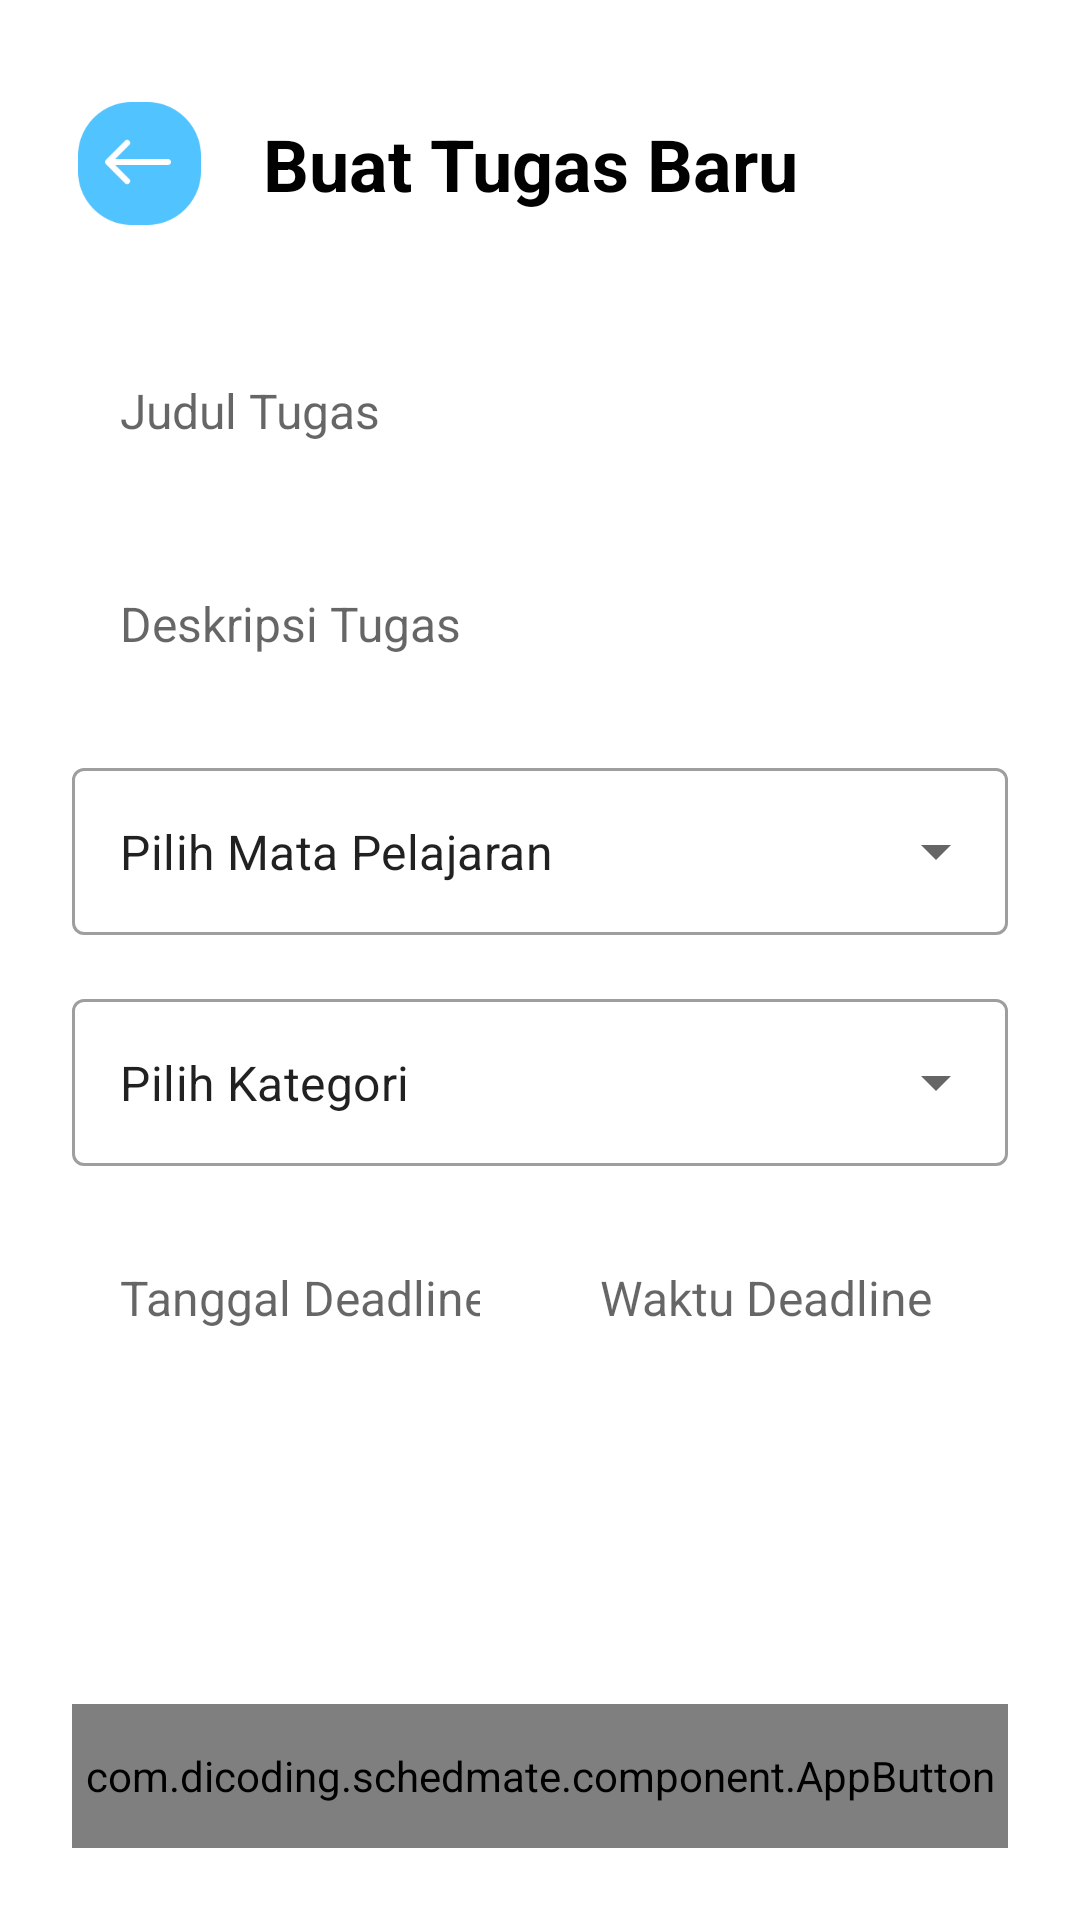

Point at icon controls on the screen. Image size 1080x1920, points as [x,y].
back: [139,163]
